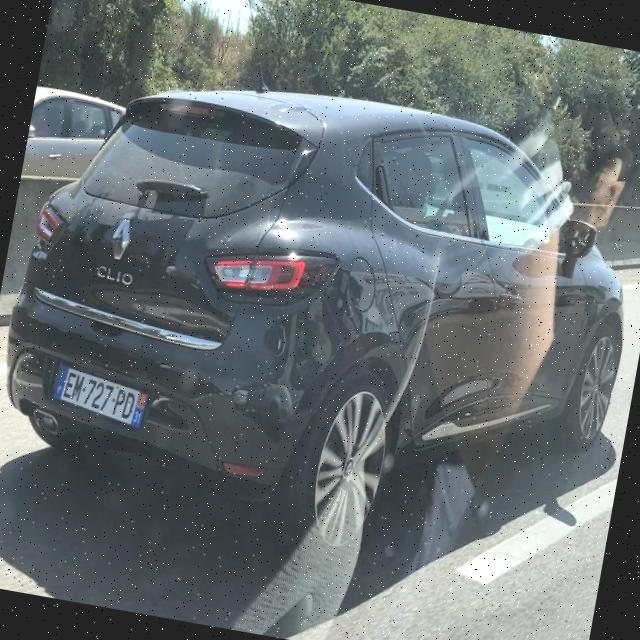EU: (49, 362, 152, 429)
France: (49, 360, 72, 397)
